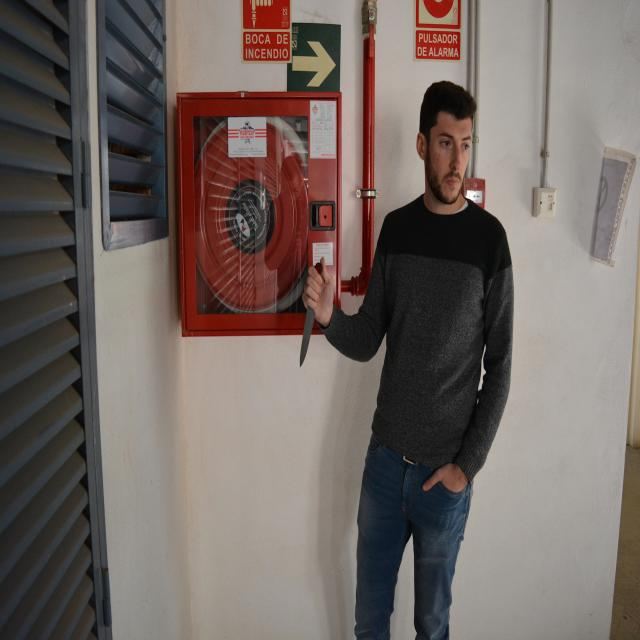knife: (299, 258, 323, 369)
